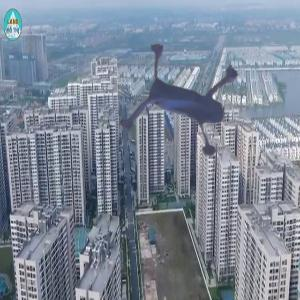drone: (90, 15, 279, 204)
